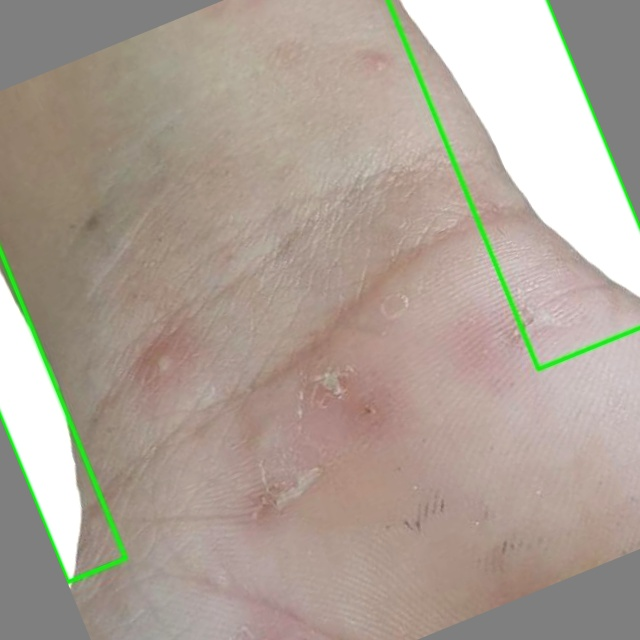Scabies: (387, 0, 639, 370)
